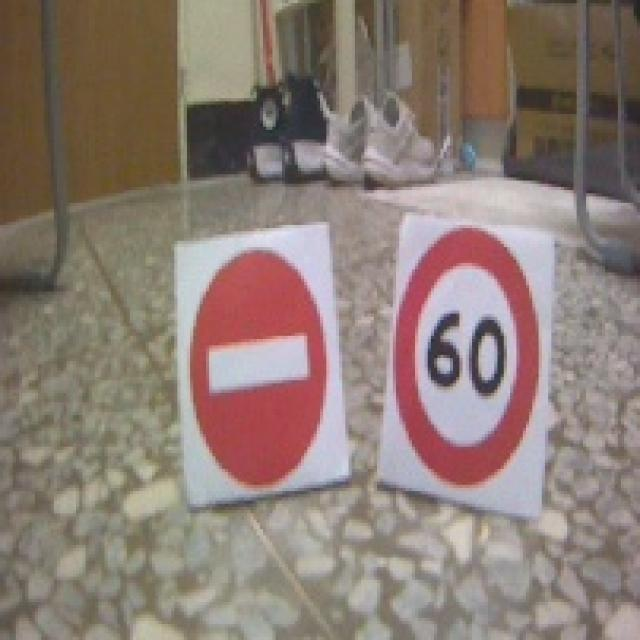DoNotEnterSign: (190, 244, 331, 491)
